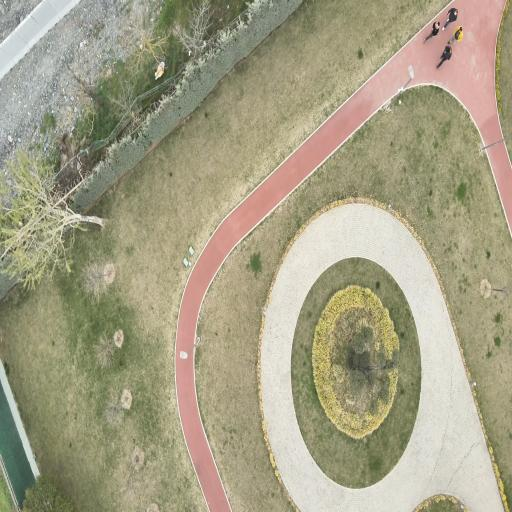person: (437, 46, 451, 68), (443, 8, 457, 30), (424, 22, 439, 42), (448, 26, 463, 44)
